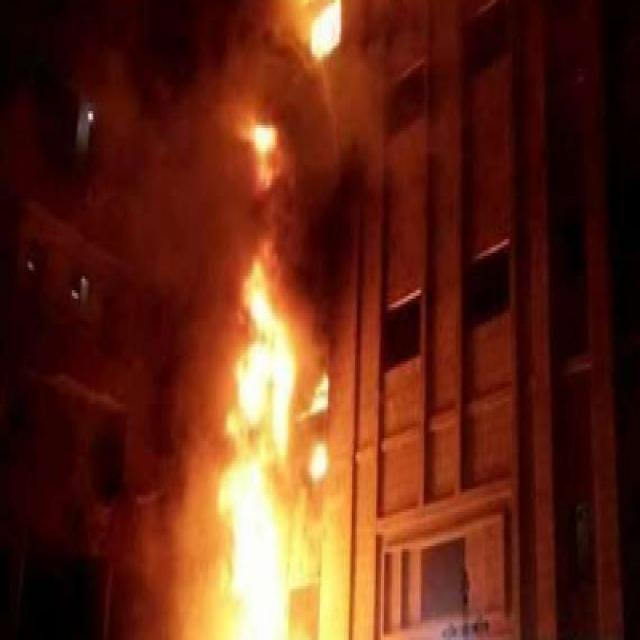Fire: (214, 260, 333, 640), (298, 0, 352, 60), (236, 106, 279, 158)
Smoke: (58, 1, 411, 258), (123, 253, 214, 640)
